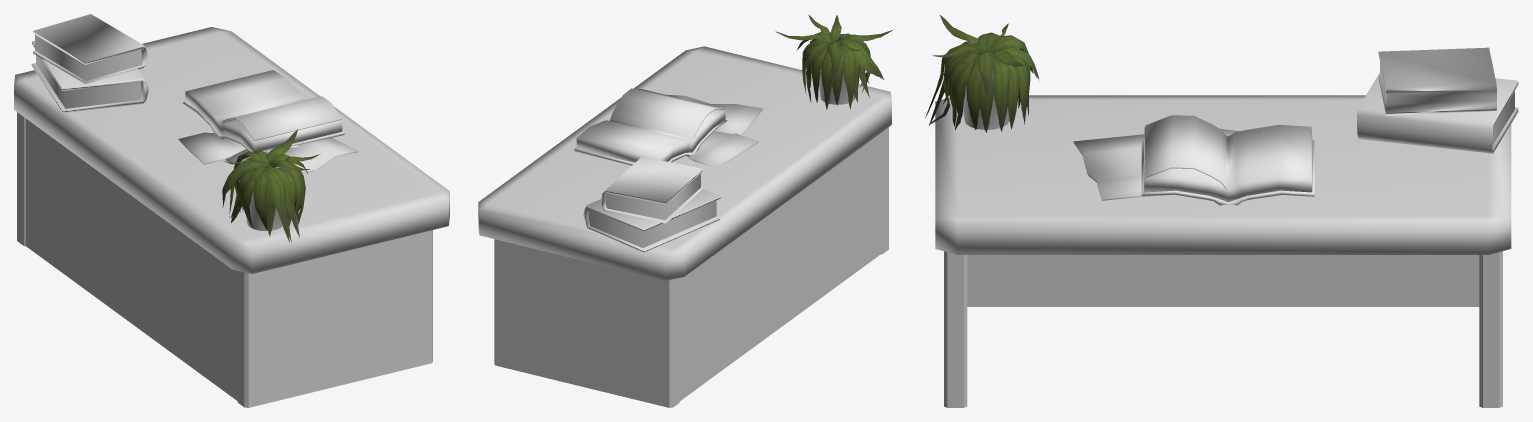
File: Escritorio_LOW.fbx
The picture shows the model from 3 angles, left to right: view 1: azimuth 30°, elevation 25°; view 2: azimuth 150°, elevation 25°; view 3: azimuth 270°, elevation 25°; orthographic projection. The views are drawn at different scales.
Visible parts, largest first — view 1: Escritorio_LOW, Libro_abierto_LOW, Planta3_LOW, Libro2_LOW, Libro1_LOW, Folio1_LOW, Folio2_LOW; view 2: Escritorio_LOW, Libro_abierto_LOW, Planta3_LOW, Libro2_LOW, Libro1_LOW, Folio2_LOW, Folio1_LOW; view 3: Escritorio_LOW, Libro_abierto_LOW, Planta3_LOW, Libro2_LOW, Libro1_LOW, Folio1_LOW.
Boxes of the visible parts, x1=… form: Escritorio_LOW: x1=14, y1=27, x2=449, y2=407; Libro_abierto_LOW: x1=183, y1=70, x2=344, y2=152; Planta3_LOW: x1=222, y1=129, x2=319, y2=242; Libro2_LOW: x1=33, y1=14, x2=147, y2=84; Libro1_LOW: x1=31, y1=41, x2=148, y2=113; Folio1_LOW: x1=225, y1=137, x2=358, y2=172; Folio2_LOW: x1=178, y1=132, x2=298, y2=164; Escritorio_LOW: x1=478, y1=46, x2=891, y2=407; Libro_abierto_LOW: x1=574, y1=88, x2=727, y2=165; Planta3_LOW: x1=775, y1=14, x2=893, y2=109; Libro2_LOW: x1=601, y1=156, x2=702, y2=223; Libro1_LOW: x1=583, y1=189, x2=720, y2=252; Folio2_LOW: x1=687, y1=132, x2=758, y2=167; Folio1_LOW: x1=666, y1=94, x2=762, y2=135; Escritorio_LOW: x1=935, y1=95, x2=1511, y2=407; Libro_abierto_LOW: x1=1141, y1=115, x2=1314, y2=205; Planta3_LOW: x1=925, y1=15, x2=1039, y2=132; Libro2_LOW: x1=1378, y1=47, x2=1496, y2=115; Libro1_LOW: x1=1357, y1=72, x2=1518, y2=153; Folio1_LOW: x1=1073, y1=134, x2=1144, y2=200.
Size of the model in its own units: 244 by 248 by 473.
